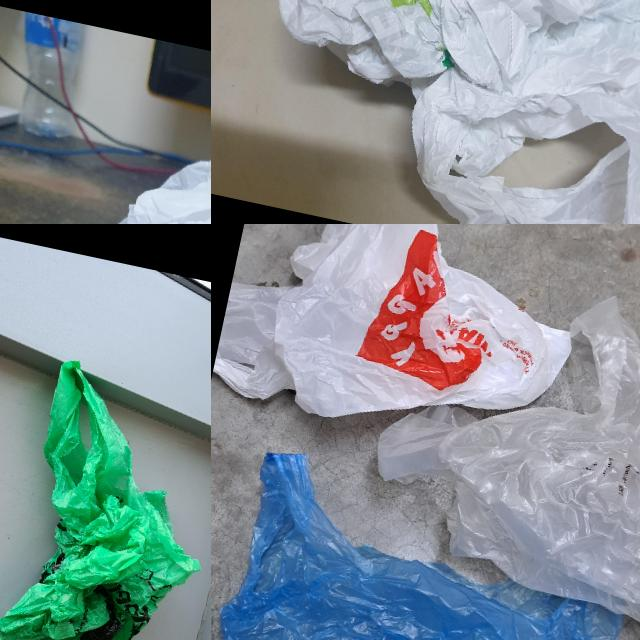sacola plástica: (350, 254, 640, 623), (211, 224, 617, 466), (227, 0, 640, 224), (211, 442, 638, 640), (0, 349, 211, 640), (47, 122, 211, 224)
